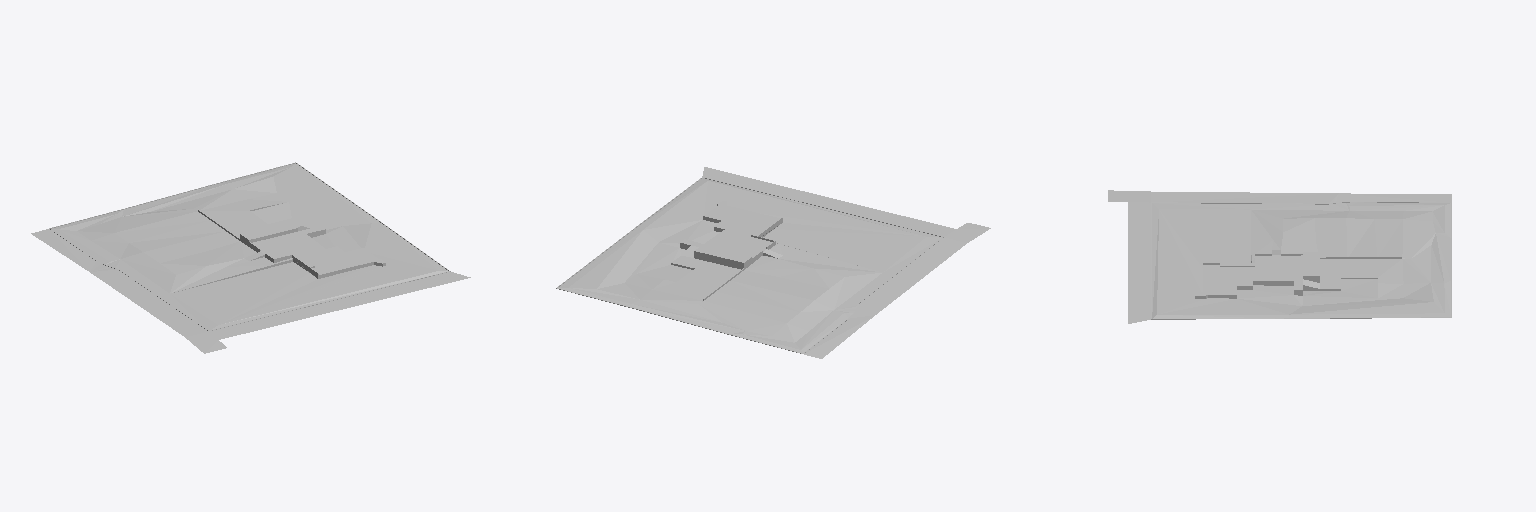
The model's file is MastersceneTrees_NoCityhall_NoSkydome_90degree_pieces_kortteli_3.obj.
3 views of the same model, side by side, from view 1: azimuth 30°, elevation 25°; view 2: azimuth 150°, elevation 25°; view 3: azimuth 270°, elevation 25° (orthographic).
Parts seen in each view (by area): view 1: PallasBlock; view 2: PallasBlock; view 3: PallasBlock.
Part boxes in pixels (x1,y1,x2,y2): PallasBlock: (31,162,470,353); PallasBlock: (556,167,990,358); PallasBlock: (1108,190,1451,323).
Size of the model in its own units: 113 by 5.03 by 121.